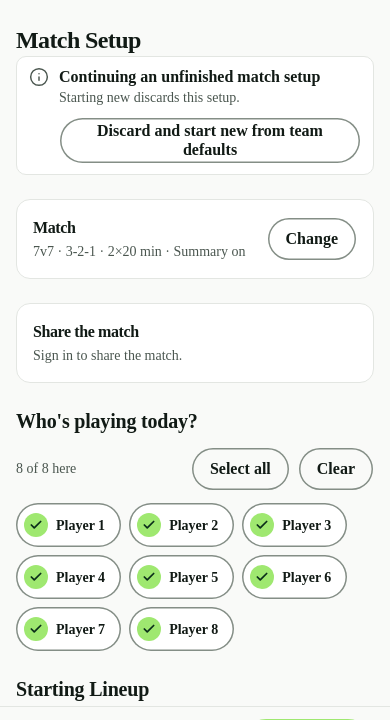
it: MatchSetupManager team defaults and drafts › resumes an unfinished draft, labelled, and can start over from the team defaults
Expected: the text "Continuing an unfinished match setup" is shown, [59, 67, 361, 88]
Expected: the text "Starting new discards this setup." is shown, [59, 90, 240, 105]
Click the button "Discard and start new from team defaults" at (210, 141), box [59, 117, 361, 164]
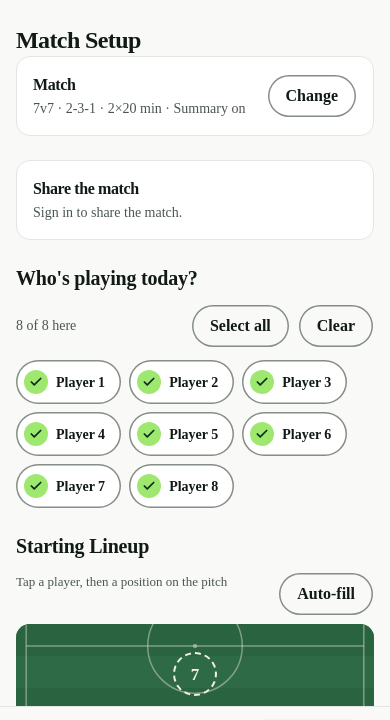
Expected: the heading "Match" is shown, [33, 76, 75, 93]
Now the text "Continuing an unfinished match setup" is gone
